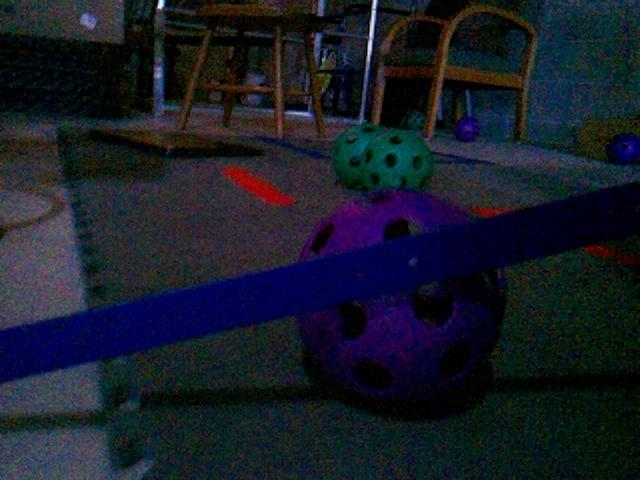Green: (362, 126, 433, 194), (336, 128, 387, 190), (400, 108, 426, 129)
Purple: (291, 191, 505, 412), (604, 132, 640, 165), (453, 115, 481, 142)
